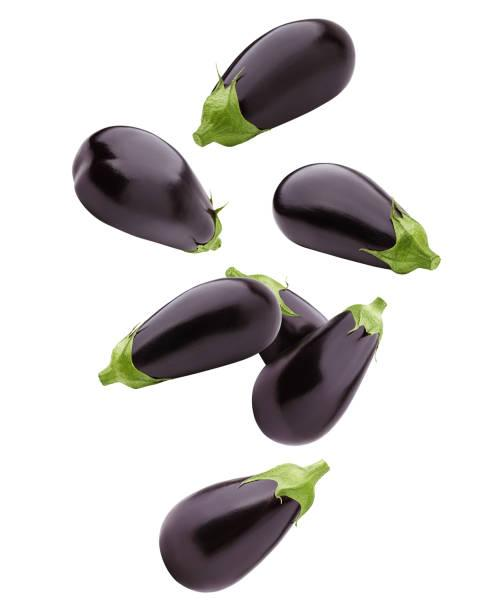Brinjal: (76, 265, 401, 445), (65, 112, 222, 267), (159, 460, 339, 594), (192, 12, 356, 138), (272, 159, 443, 277)
